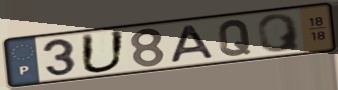3: (38, 37, 80, 78)
8: (128, 27, 167, 68)
A: (169, 23, 217, 64)
Q: (255, 12, 303, 54), (216, 18, 253, 58)
U: (79, 29, 128, 75)
